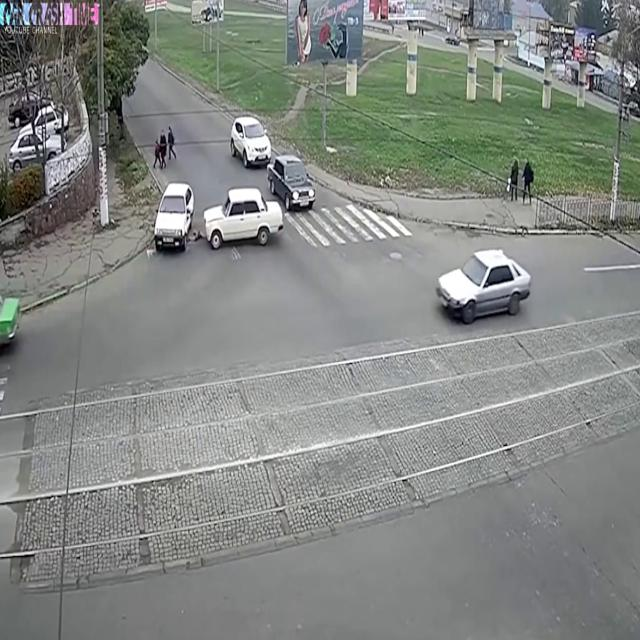accident: (152, 175, 288, 265)
